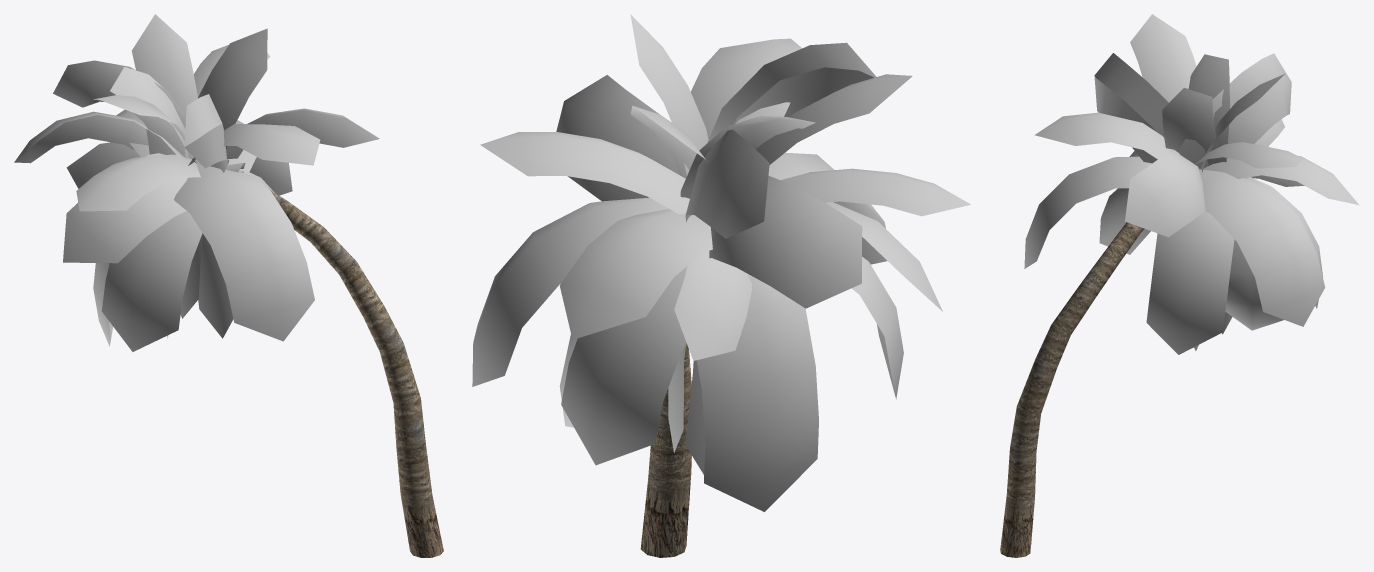
Rendered from palm3.fbx.
3 renders of one model, left to right at view 1: azimuth 30°, elevation 25°; view 2: azimuth 150°, elevation 25°; view 3: azimuth 270°, elevation 25°, orthographic. The views are drawn at different scales.
Parts seen in each view (by area): view 1: polySurface481; view 2: polySurface481; view 3: polySurface481.
Boxes of the visible parts, bbox=[...] form: polySurface481: bbox=[14, 14, 443, 557]; polySurface481: bbox=[472, 14, 970, 557]; polySurface481: bbox=[1000, 14, 1359, 557].
Bounding box in the file's own units: 20.48 × 30.79 × 23.11.
